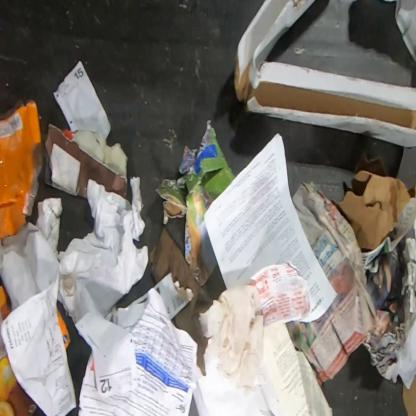cardboard: (234, 0, 415, 150), (155, 119, 236, 286), (331, 151, 415, 250), (153, 272, 194, 321), (402, 372, 415, 415), (126, 292, 148, 309)
soft_plastic: (0, 100, 43, 239)
